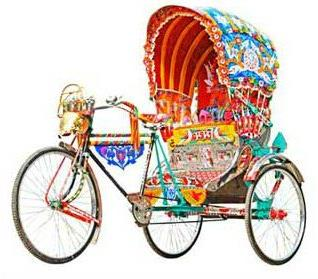Rickshaw: (5, 2, 311, 247)
